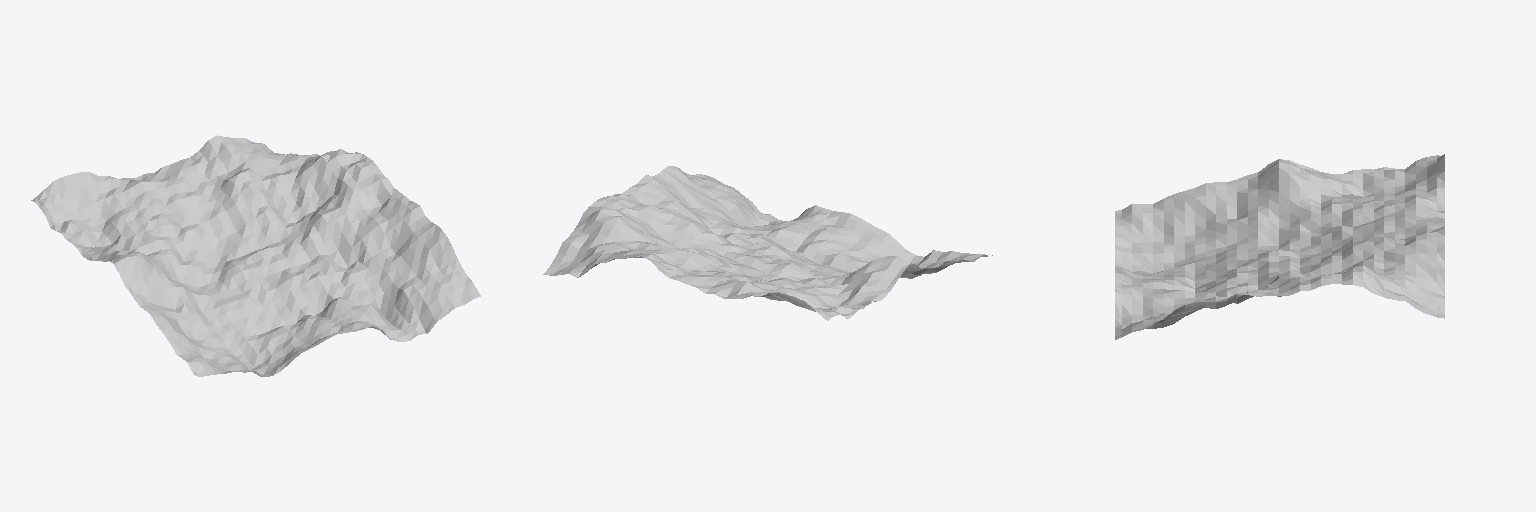
Rendered from heightmap.053.obj.
3 renders of one model, left to right at view 1: azimuth 30°, elevation 25°; view 2: azimuth 150°, elevation 25°; view 3: azimuth 270°, elevation 25°, orthographic.
Parts seen in each view (by area): view 1: heightmap.053_Plane.053; view 2: heightmap.053_Plane.053; view 3: heightmap.053_Plane.053.
Boxes of the visible parts, <box> form: heightmap.053_Plane.053: <box>31,135,480,376</box>; heightmap.053_Plane.053: <box>543,166,992,320</box>; heightmap.053_Plane.053: <box>1115,154,1444,339</box>.
Size of the model in its own units: 32 by 10.61 by 32.